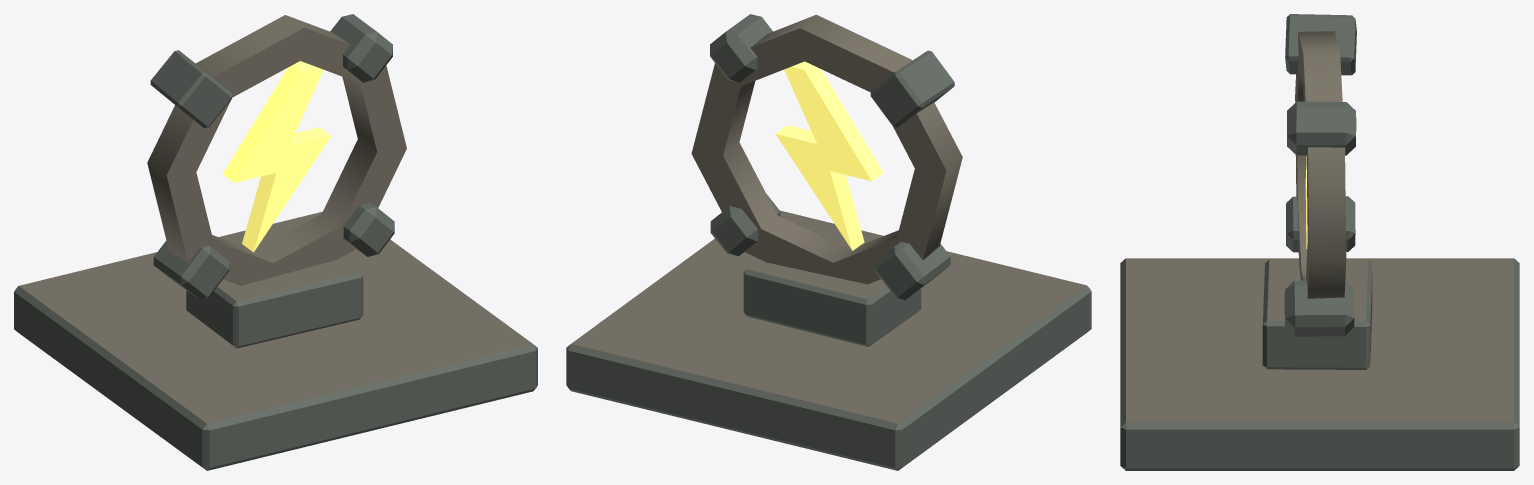
The model's file is R4X_RechargePulse_LOD1.fbx.
The picture shows the model from 3 angles, left to right: view 1: azimuth 30°, elevation 25°; view 2: azimuth 150°, elevation 25°; view 3: azimuth 270°, elevation 25°; orthographic projection. The views are drawn at different scales.
Visible parts, largest first — view 1: R4X_RechargePulse_LOD1; view 2: R4X_RechargePulse_LOD1; view 3: R4X_RechargePulse_LOD1.
Part boxes in pixels (x1,y1,x2,y2): R4X_RechargePulse_LOD1: (14,14,537,470); R4X_RechargePulse_LOD1: (566,14,1091,470); R4X_RechargePulse_LOD1: (1120,14,1519,470).
Size of the model in its own units: 0.52 by 0.4969 by 0.52.
